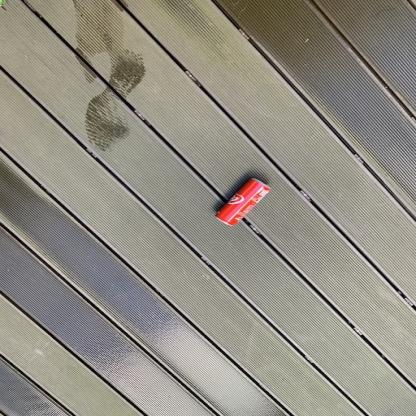Aerosols: (203, 170, 279, 234)
